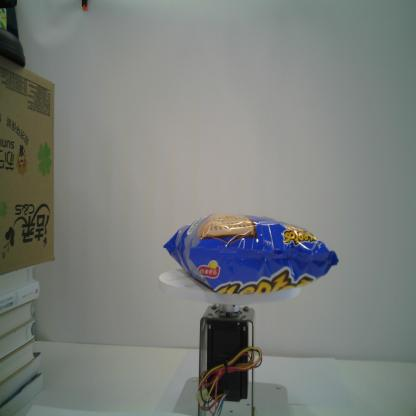Puffed Food: (163, 213, 339, 295)
